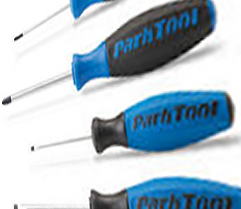Screwdriver: (3, 13, 241, 102), (28, 96, 241, 158)
